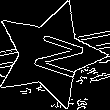N_W: (18, 27, 82, 82)
